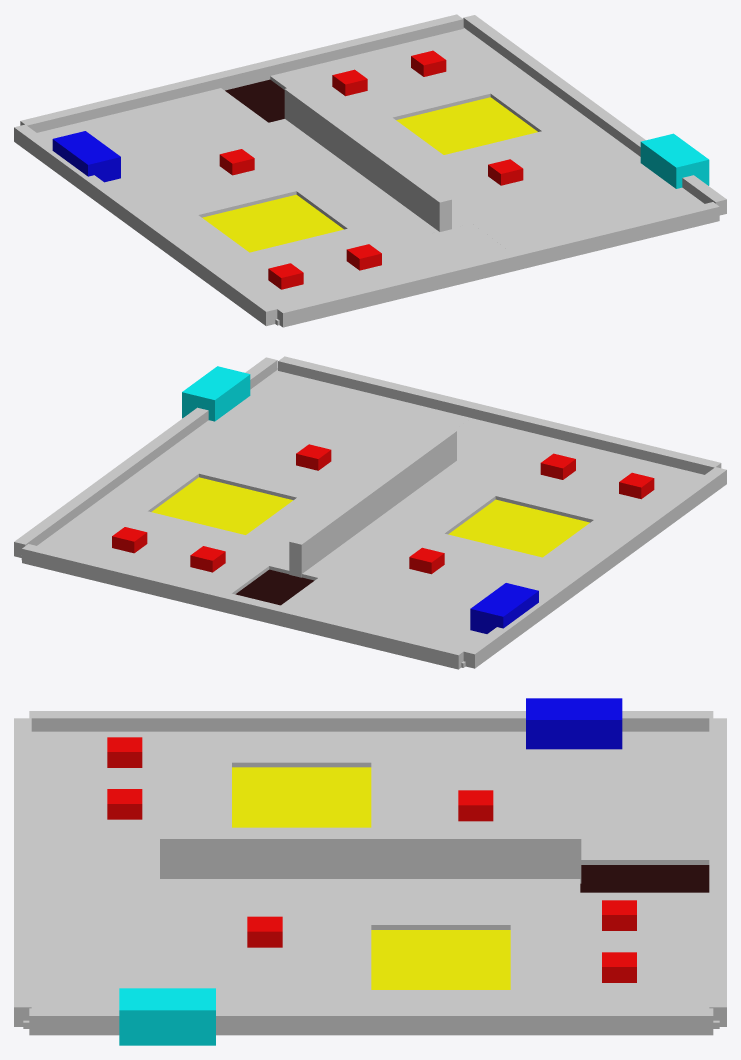
Rendered from Level2_b1V2.fbx.
3 renders of one model, top to bottom at view 1: azimuth 30°, elevation 25°; view 2: azimuth 150°, elevation 25°; view 3: azimuth 270°, elevation 25°, orthographic. The views are drawn at different scales.
Visible parts, largest first — view 1: Box027, Box032, Box031, Box030, Box034, Box033, Box044, Box042, Box028, Box029, Box041, Box043 (+6 smaller); view 2: Box027, Box031, Box032, Box030, Box034, Box033, Box042, Box044, Box028, Box029, Box041, Box043 (+6 smaller); view 3: Box027, Box030, Box033, Box034, Box042, Box044, Box028, Box032, Box031, Box029, Box041, Box043 (+6 smaller).
Boxes of the visible parts, bbox=[...] form: Box027: bbox=[37, 28, 704, 325]; Box032: bbox=[277, 202, 719, 327]; Box031: bbox=[20, 14, 463, 132]; Box030: bbox=[284, 86, 451, 231]; Box034: bbox=[14, 124, 277, 326]; Box033: bbox=[463, 15, 726, 215]; Box044: bbox=[396, 97, 537, 154]; Box042: bbox=[202, 194, 343, 252]; Box028: bbox=[640, 133, 709, 188]; Box029: bbox=[52, 131, 120, 182]; Box041: bbox=[423, 223, 509, 263]; Box043: bbox=[225, 79, 284, 122]; Box027: bbox=[21, 368, 704, 667]; Box031: bbox=[22, 544, 464, 669]; Box032: bbox=[278, 356, 721, 474]; Box030: bbox=[289, 428, 456, 577]; Box034: bbox=[463, 467, 726, 668]; Box033: bbox=[14, 357, 277, 557]; Box042: bbox=[448, 499, 589, 557]; Box044: bbox=[151, 477, 292, 534]; Box028: bbox=[182, 366, 250, 421]; Box029: bbox=[470, 583, 538, 633]; Box041: bbox=[455, 418, 519, 464]; Box043: bbox=[235, 569, 314, 605]; Box027: bbox=[23, 731, 719, 1028]; Box030: bbox=[160, 830, 581, 883]; Box033: bbox=[29, 1008, 713, 1035]; Box034: bbox=[29, 711, 713, 731]; Box042: bbox=[232, 767, 371, 827]; Box044: bbox=[371, 930, 510, 989]; Box028: bbox=[119, 988, 215, 1045]; Box032: bbox=[14, 718, 31, 1026]; Box031: bbox=[709, 718, 726, 1026]; Box029: bbox=[526, 698, 622, 749]; Box041: bbox=[31, 860, 162, 892]; Box043: bbox=[580, 865, 709, 892].
Bounding box in the file's own units: 728 × 53.6 × 696.
